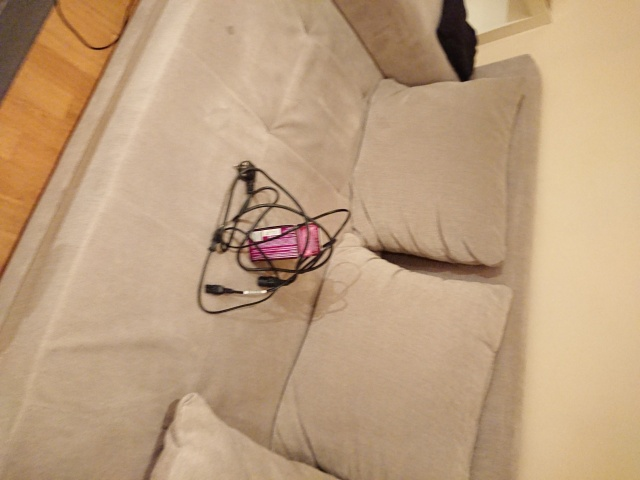Franck Black Currant Tea 60g: (246, 220, 323, 264)
